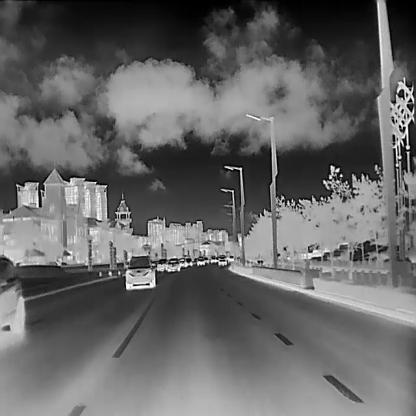car: (0, 253, 23, 331), (125, 254, 155, 288), (165, 256, 180, 271), (155, 258, 168, 270), (216, 254, 227, 264), (209, 254, 218, 262), (185, 256, 192, 266), (226, 254, 234, 262), (196, 257, 204, 265), (180, 257, 186, 266), (202, 256, 208, 263)
